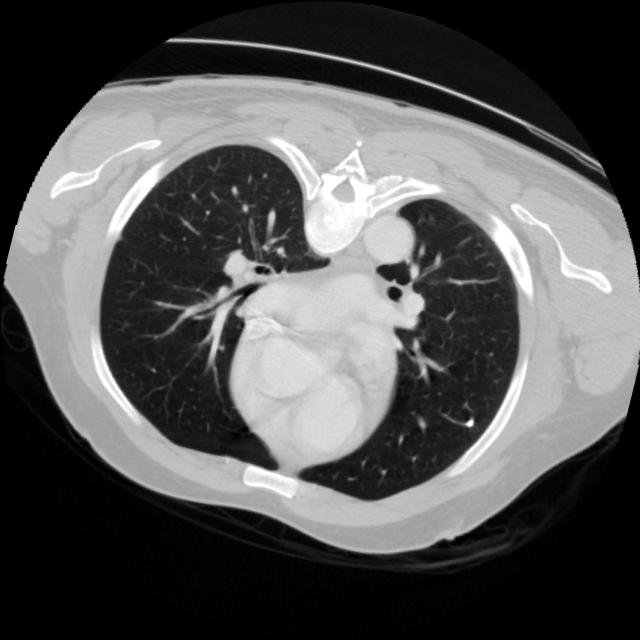nodule: (455, 410, 479, 434)
